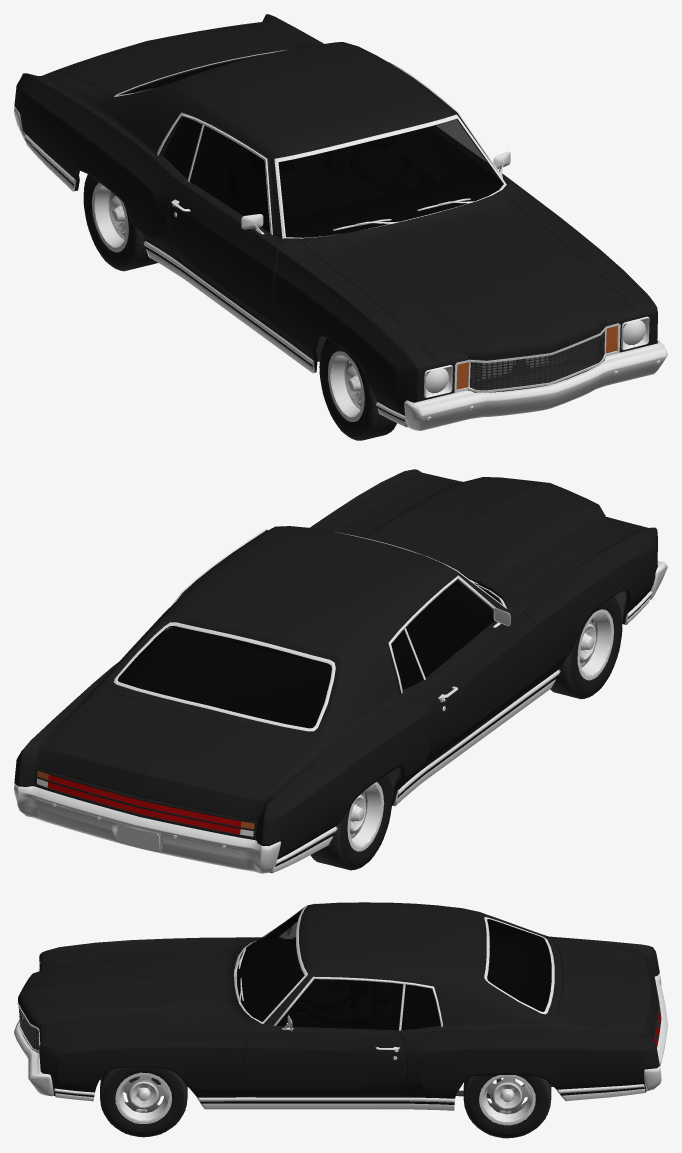
File: MuscleCar.fbx
The picture shows the model from 3 angles, top to bottom: view 1: azimuth 30°, elevation 25°; view 2: azimuth 150°, elevation 25°; view 3: azimuth 270°, elevation 25°; orthographic projection. The views are drawn at different scales.
Visible parts, largest first — view 1: MuscleCar, Generic_Ped, H_FRWheel, H_RRWheel, H_FRWheel_LOD, H_RRWheel_LOD; view 2: MuscleCar, H_FRWheel, H_RRWheel, H_FRWheel_LOD, H_RRWheel_LOD, Generic_Plates; view 3: MuscleCar, H_FLWheel, H_RLWheel, H_FLWheel_LOD, H_RLWheel_LOD, Generic_Ped.
Part boxes in pixels (x1,y1,x2,y2): MuscleCar: [14, 14, 667, 430]; Generic_Ped: [349, 135, 443, 193]; H_FRWheel: [319, 338, 396, 440]; H_RRWheel: [83, 174, 157, 270]; H_FRWheel_LOD: [319, 338, 396, 440]; H_RRWheel_LOD: [83, 177, 157, 271]; MuscleCar: [14, 469, 667, 873]; H_FRWheel: [550, 596, 622, 698]; H_RRWheel: [310, 774, 392, 869]; H_FRWheel_LOD: [552, 596, 622, 699]; H_RRWheel_LOD: [313, 776, 392, 870]; Generic_Plates: [118, 825, 159, 851]; MuscleCar: [14, 902, 667, 1110]; H_FLWheel: [100, 1067, 187, 1136]; H_RLWheel: [463, 1075, 551, 1138]; H_FLWheel_LOD: [100, 1067, 187, 1137]; H_RLWheel_LOD: [463, 1075, 551, 1138]; Generic_Ped: [290, 980, 372, 1026].
Size of what is drawn, in the model's own units: 201 by 141 by 525.
